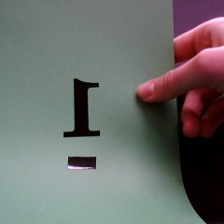green1: (53, 72, 113, 181)
